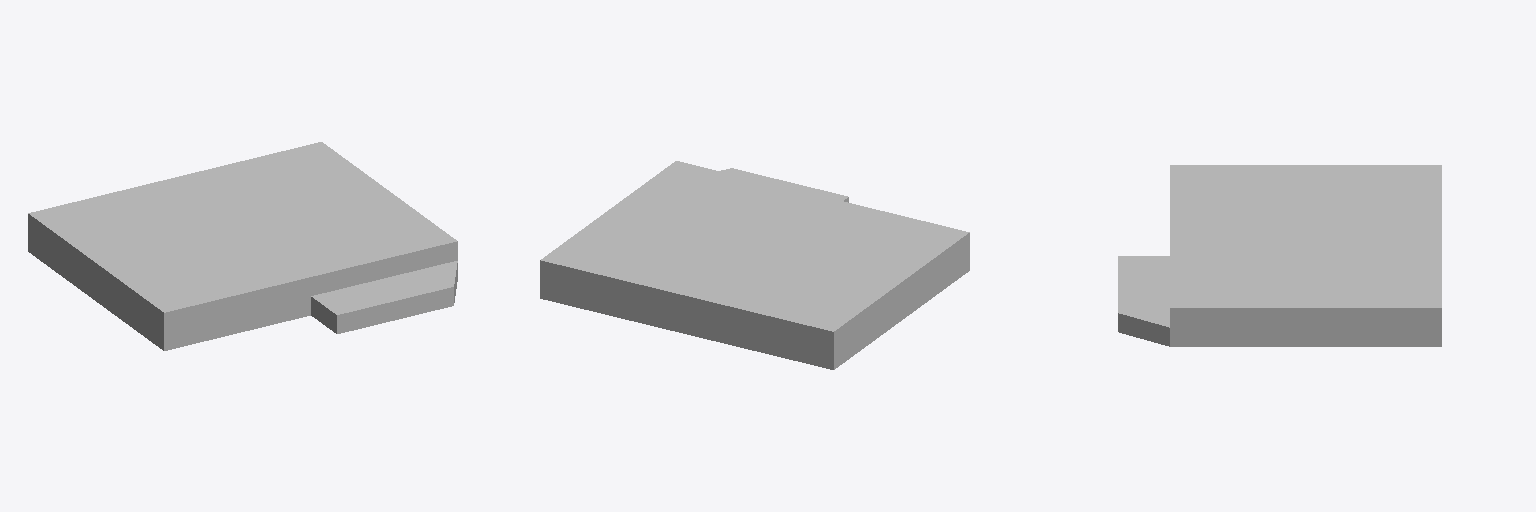
File: tablet-01-body.obj
The picture shows the model from 3 angles: view 1: azimuth 30°, elevation 25°; view 2: azimuth 150°, elevation 25°; view 3: azimuth 270°, elevation 25°; orthographic projection.
Parts seen in each view (by area): view 1: Cube_Cube.001; view 2: Cube_Cube.001; view 3: Cube_Cube.001.
Boxes of the visible parts, x1=… form: Cube_Cube.001: x1=28, y1=142, x2=457, y2=350; Cube_Cube.001: x1=540, y1=161, x2=969, y2=369; Cube_Cube.001: x1=1118, y1=165, x2=1441, y2=346.
Bounding box in the file's own units: 0.8 × 0.1 × 0.7645.